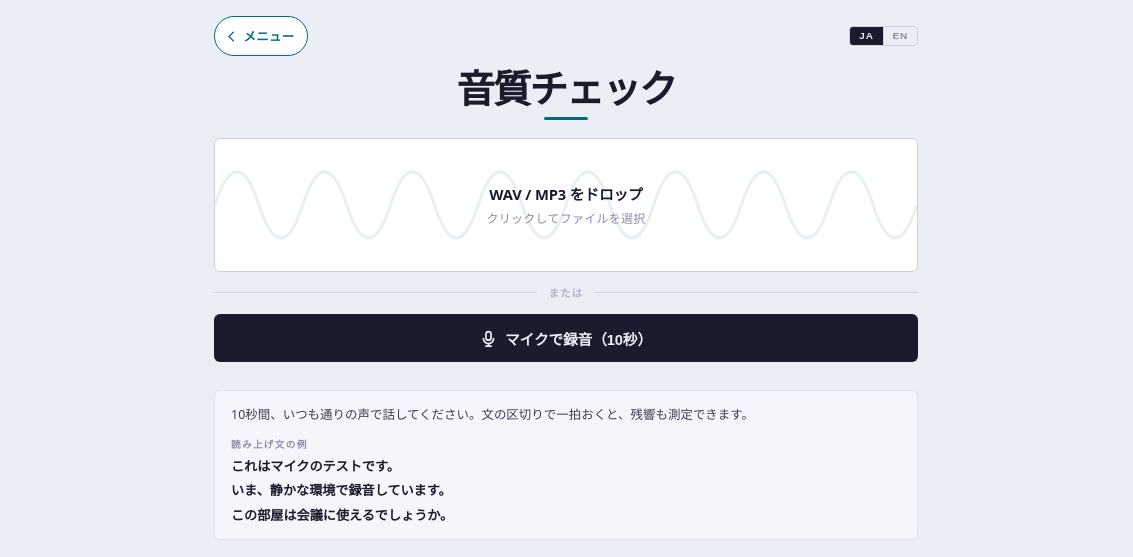
Test case: シェル — ルーティング › 機能画面のヘッダーからメニューへ戻れる
Click the link "メニュー" at (261, 36), box top-left (214, 16), bottom-right (308, 56)
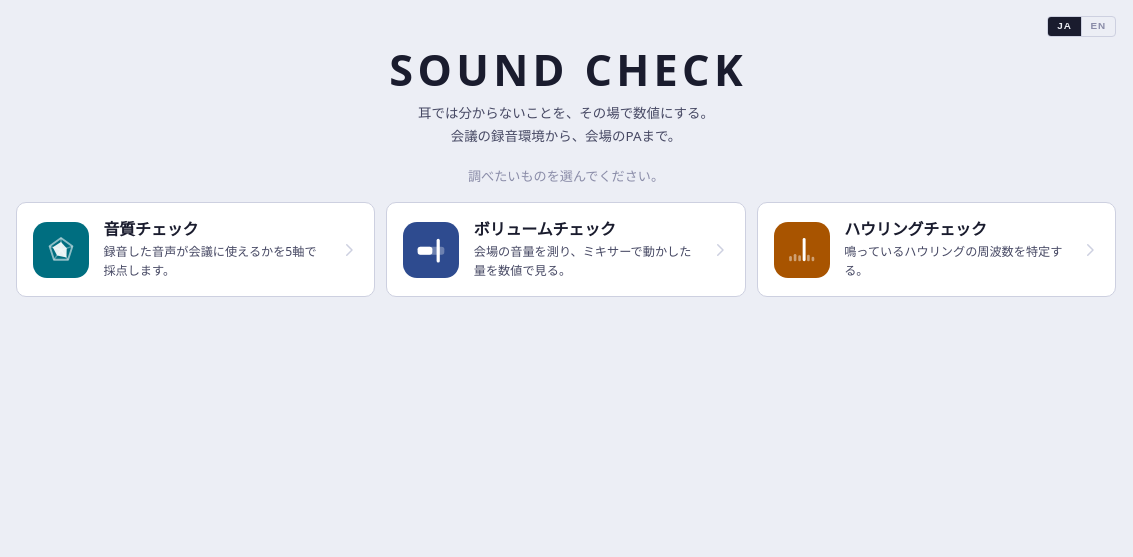
Expected: the heading "SOUND CHECK" is shown, top-left (389, 40), bottom-right (747, 99)
